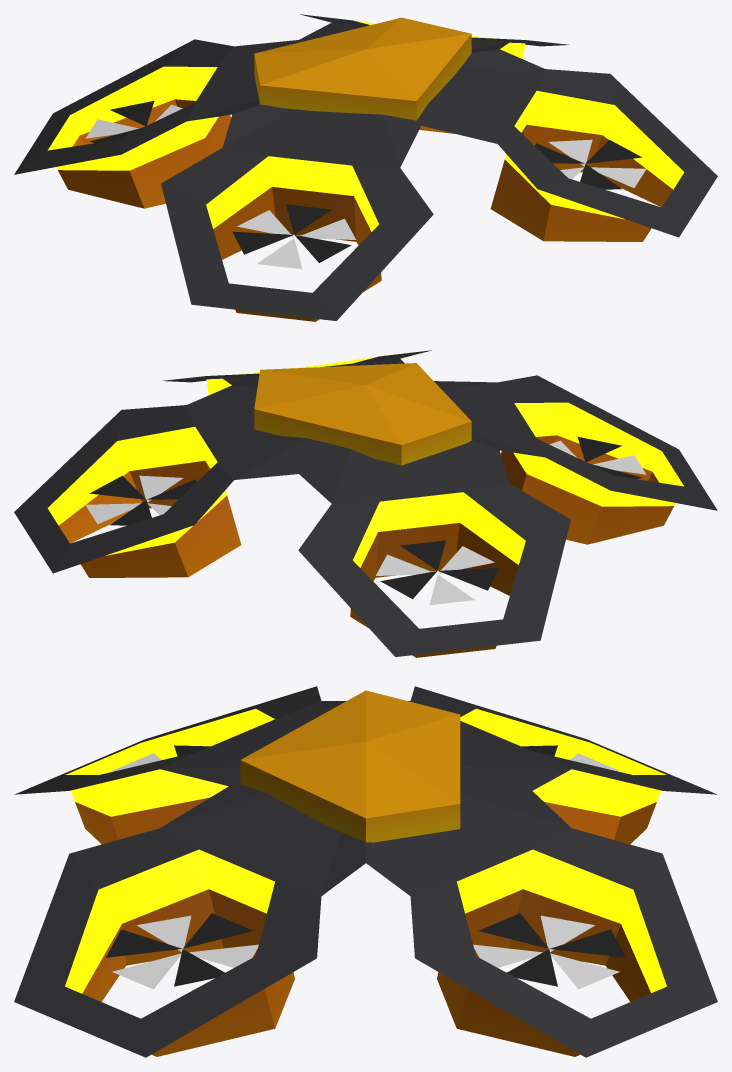
The picture shows the model from 3 angles, top to bottom: view 1: azimuth 30°, elevation 25°; view 2: azimuth 150°, elevation 25°; view 3: azimuth 270°, elevation 25°; orthographic projection. The views are drawn at different scales.
Parts seen in each view (by area): view 1: Cube.006; view 2: Cube.006; view 3: Cube.006.
Boxes of the visible parts, x1=… form: Cube.006: x1=14, y1=14, x2=717, y2=321; Cube.006: x1=14, y1=350, x2=717, y2=657; Cube.006: x1=14, y1=686, x2=717, y2=1057.
Size of the model in its own units: 7.05 by 1.92 by 6.58.
